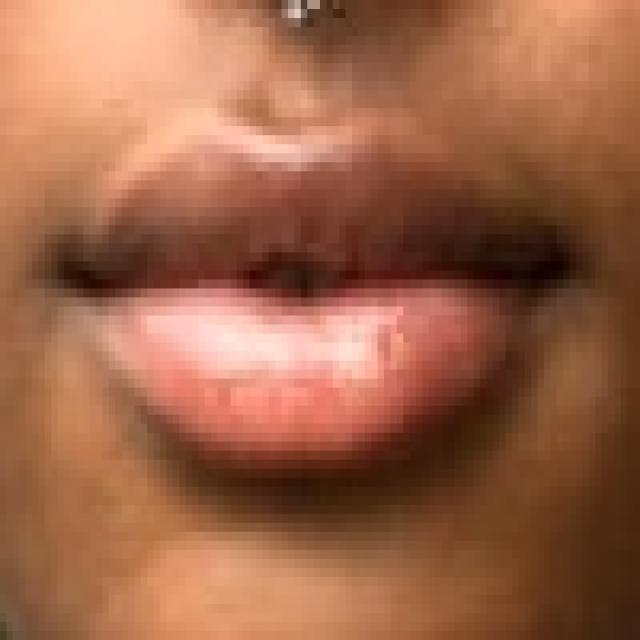closed-mouth: (44, 125, 564, 478)
